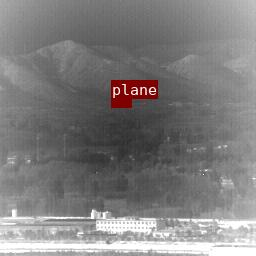plane: (111, 99, 131, 107)
